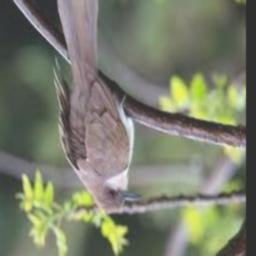Cuckoo: (52, 0, 142, 214)
